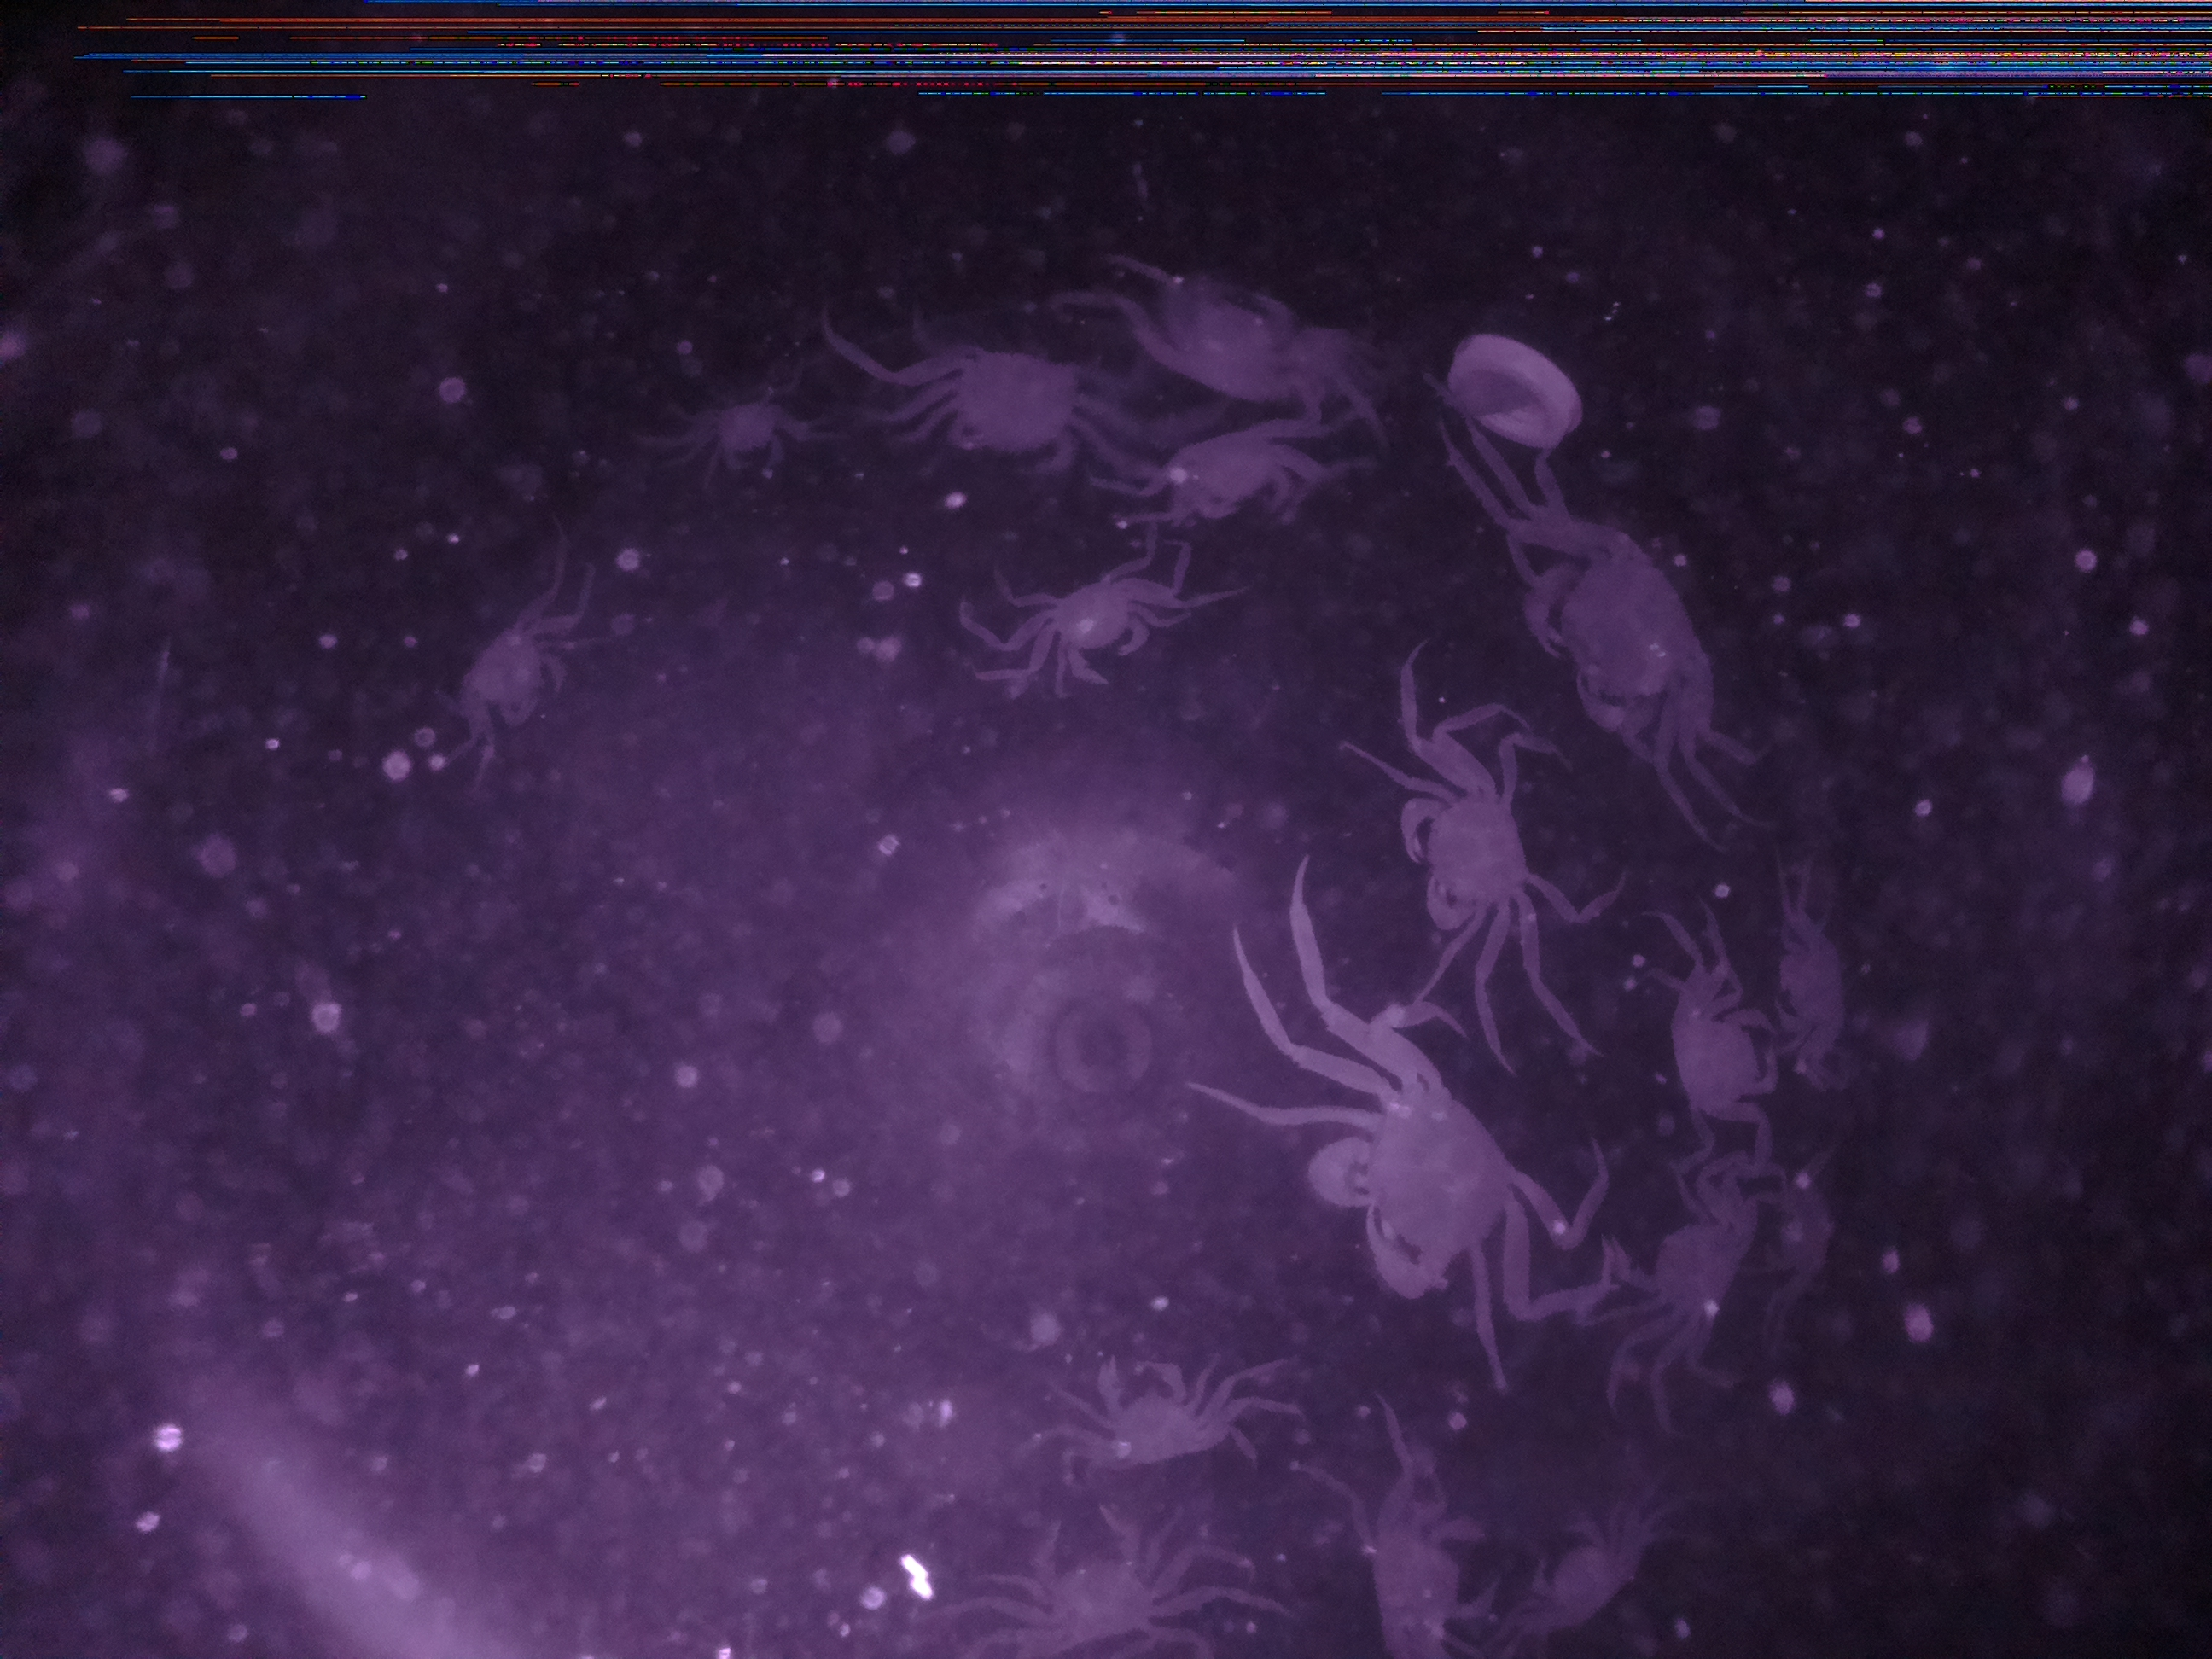Crab: (1285, 1019, 1540, 1328), (1501, 490, 1733, 755), (1381, 744, 1547, 955), (909, 331, 1108, 486), (989, 1499, 1172, 1659), (1602, 1178, 1784, 1331), (1015, 549, 1172, 714), (1068, 1333, 1233, 1483), (1642, 974, 1785, 1134), (430, 603, 585, 737)
